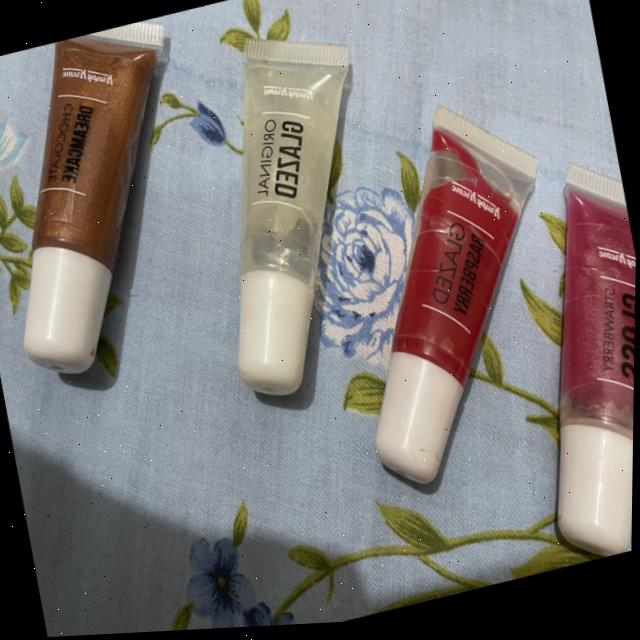lip balm: (292, 72, 611, 519), (162, 0, 433, 431), (0, 11, 248, 413), (474, 153, 638, 579)
